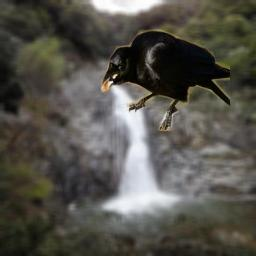Crow: (100, 29, 230, 131)
